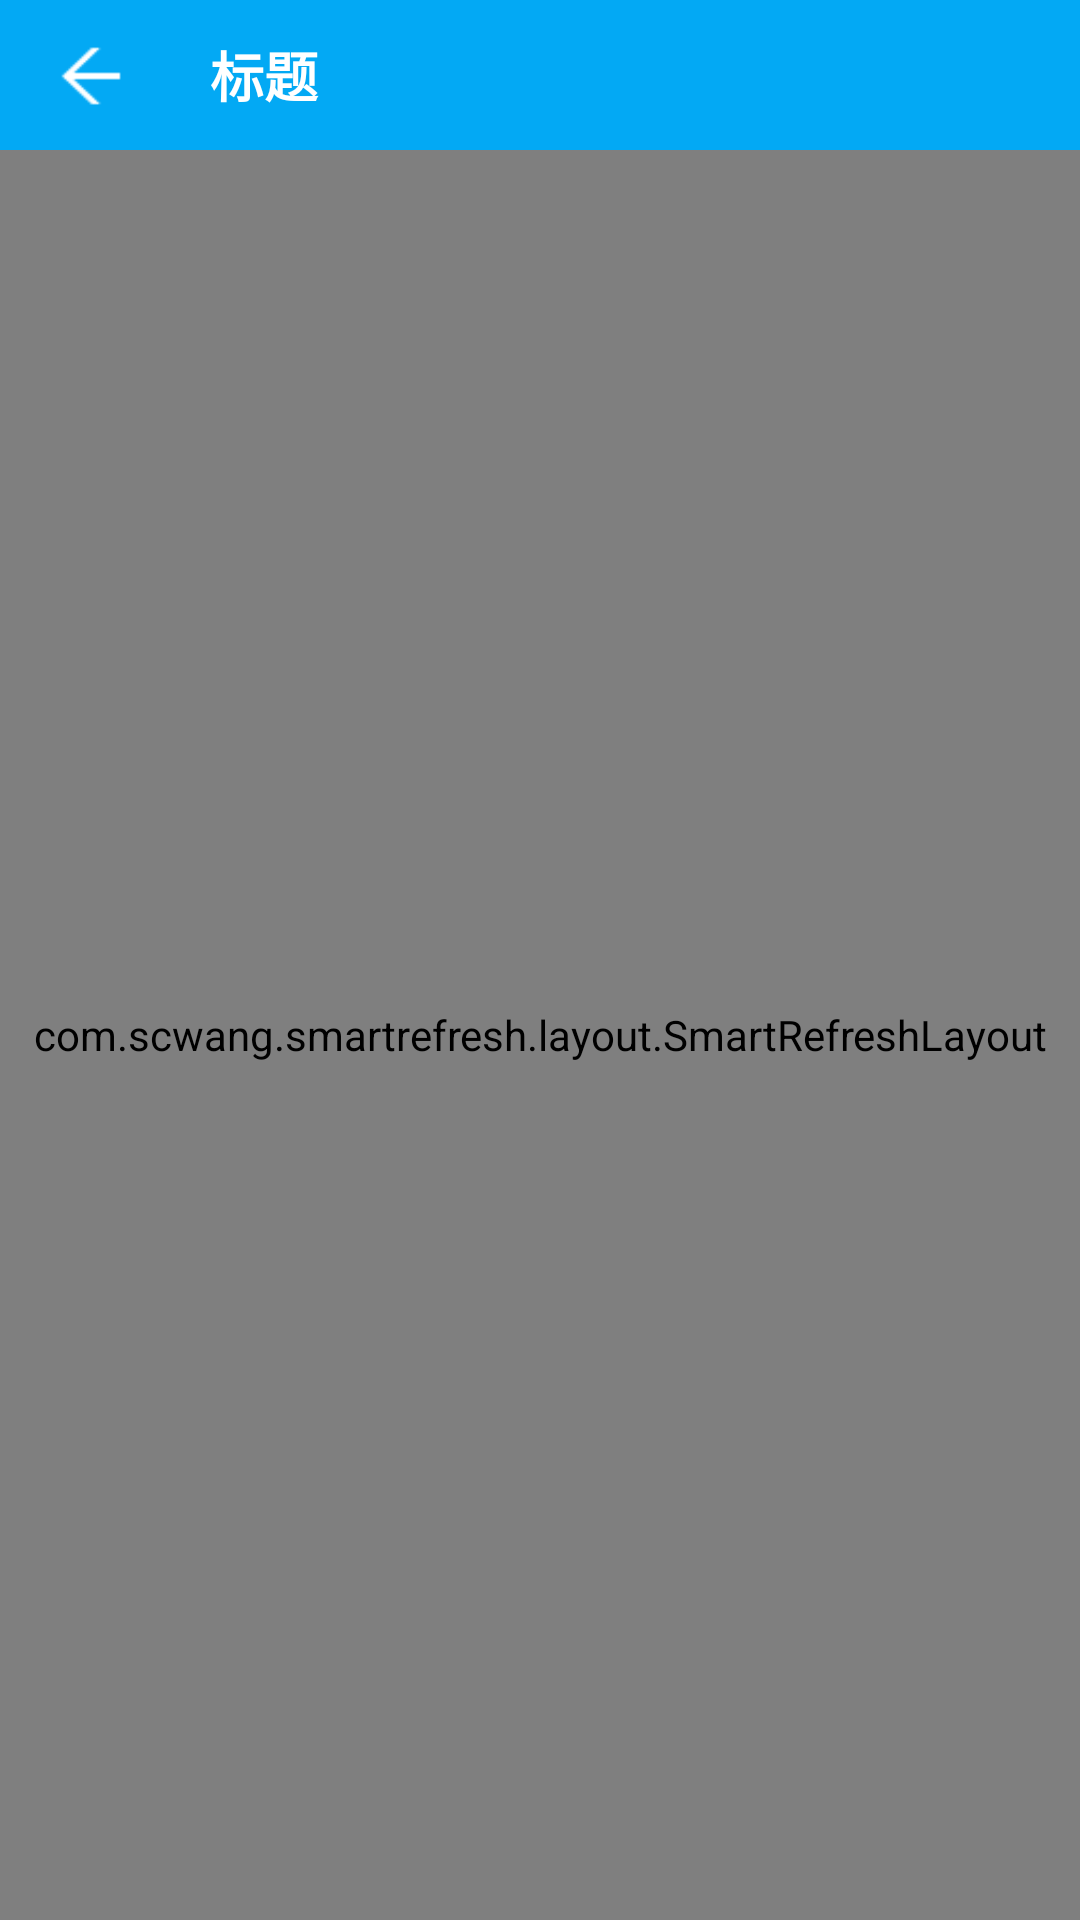

Locate icon controls on the screen. Image size 1080w x 1920h, boxes as [x1,y1,x2,y2].
back: [61,47,121,105]
